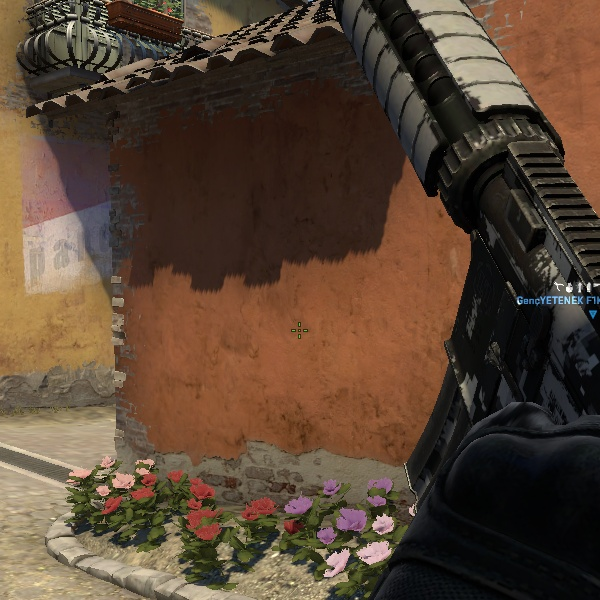t_body: (95, 0, 588, 600)
